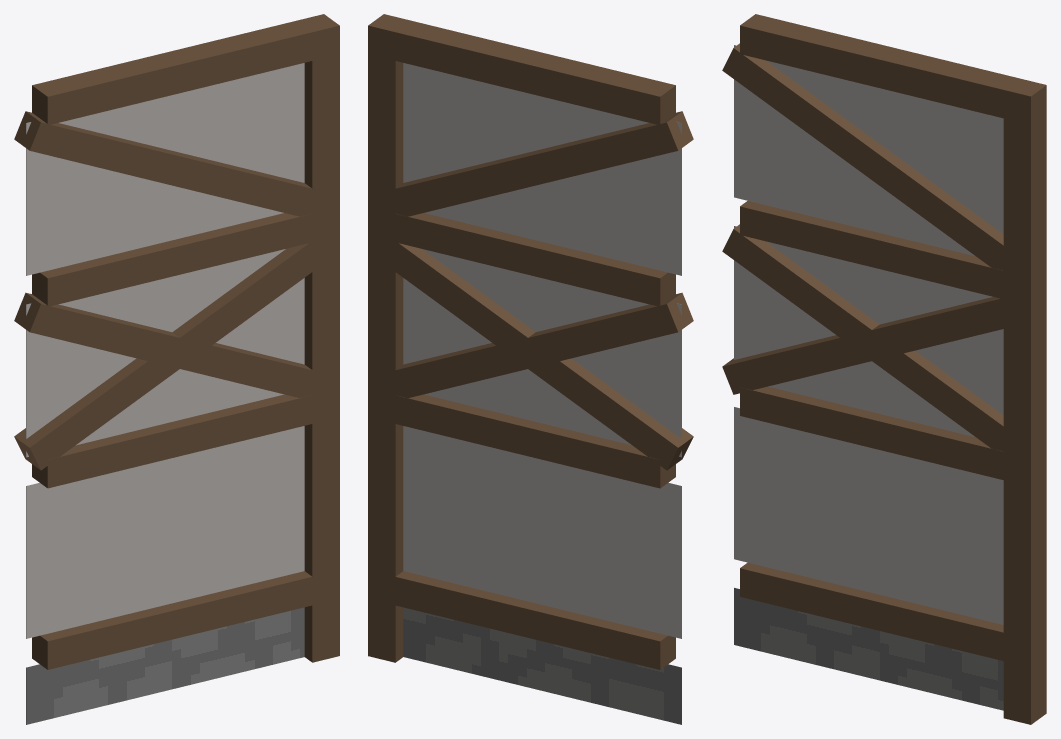
Rendered from wall_2_0.gltf.
3 renders of one model, left to right at view 1: azimuth 30°, elevation 25°; view 2: azimuth 150°, elevation 25°; view 3: azimuth 330°, elevation 25°, orthographic.
Visible parts, largest first — view 1: cube (×22); view 2: cube (×22); view 3: cube (×22).
Boxes of the visible parts, x1,y1,x2,y2 form: cube (×22): (14, 14, 339, 724); cube (×22): (368, 14, 693, 724); cube (×22): (722, 14, 1046, 724).
Size of the model in its own units: 2.12 by 4.12 by 0.1875.
Materials: 1 (1 with a texture image).
